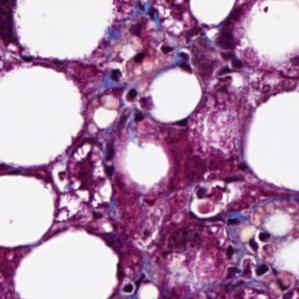inflammation: (105, 67, 156, 124), (224, 232, 274, 282)
